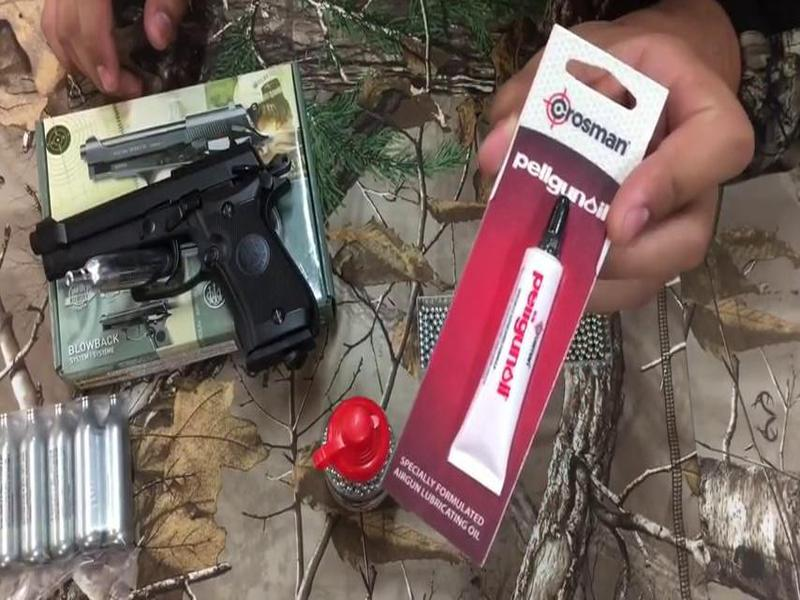Pistola: (25, 132, 341, 398)
